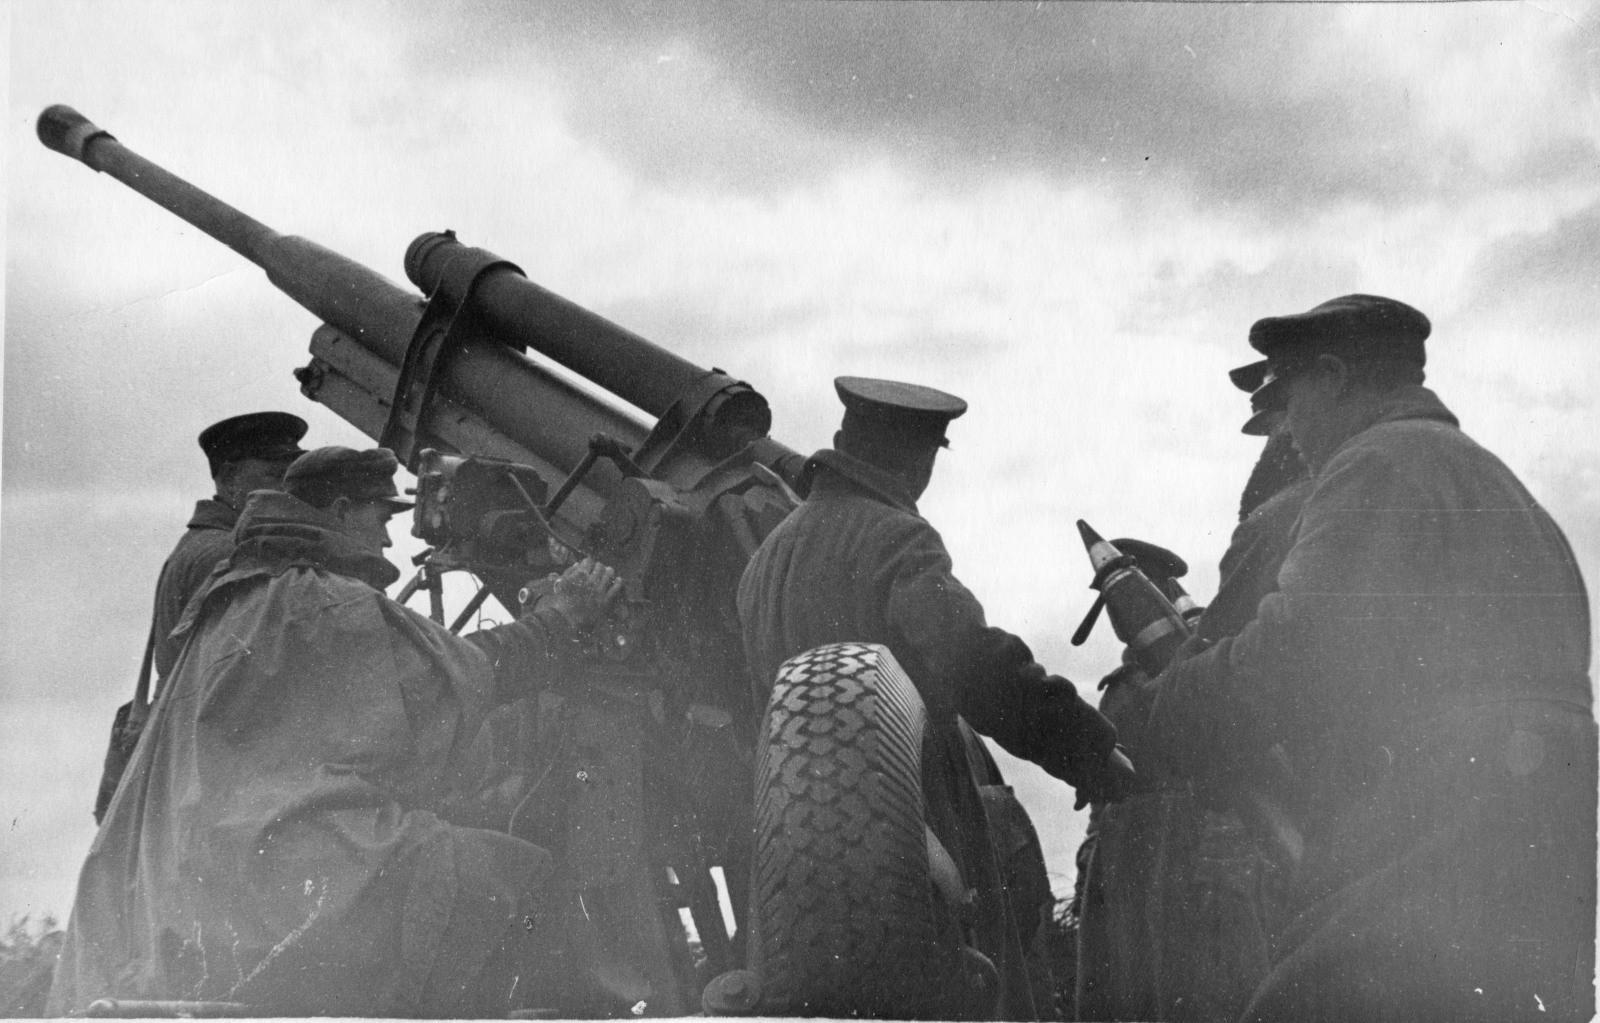MIL_SPG: (37, 106, 1050, 1017)
